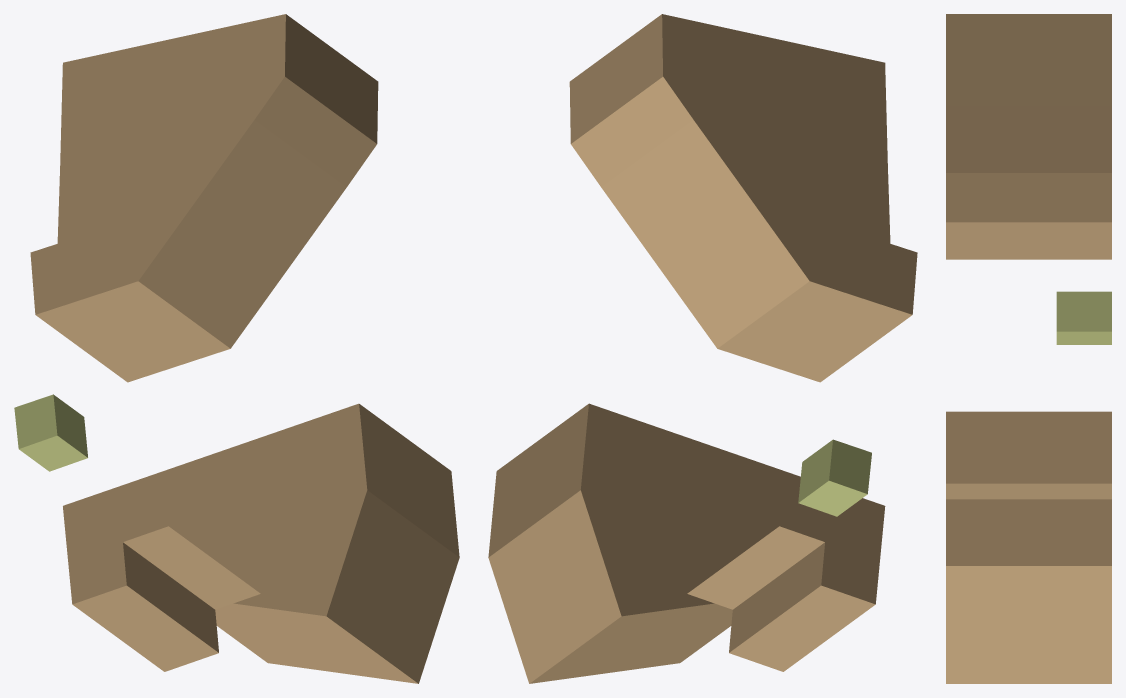
3 views of the same model, side by side, from view 1: azimuth 30°, elevation 25°; view 2: azimuth 150°, elevation 25°; view 3: azimuth 270°, elevation 25° (orthographic). The views are drawn at different scales.
Parts seen in each view (by area): view 1: 0_1_3_2_2_1_2_0; view 2: 0_1_3_2_2_1_2_0; view 3: 0_1_3_2_2_1_2_0.
Part boxes in pixels (box(x1,y1,x2,y2)): 0_1_3_2_2_1_2_0: box(14, 14, 459, 683); 0_1_3_2_2_1_2_0: box(488, 14, 917, 683); 0_1_3_2_2_1_2_0: box(946, 14, 1111, 683).
Bounding box in the file's own units: 59.57 × 99.67 × 27.
